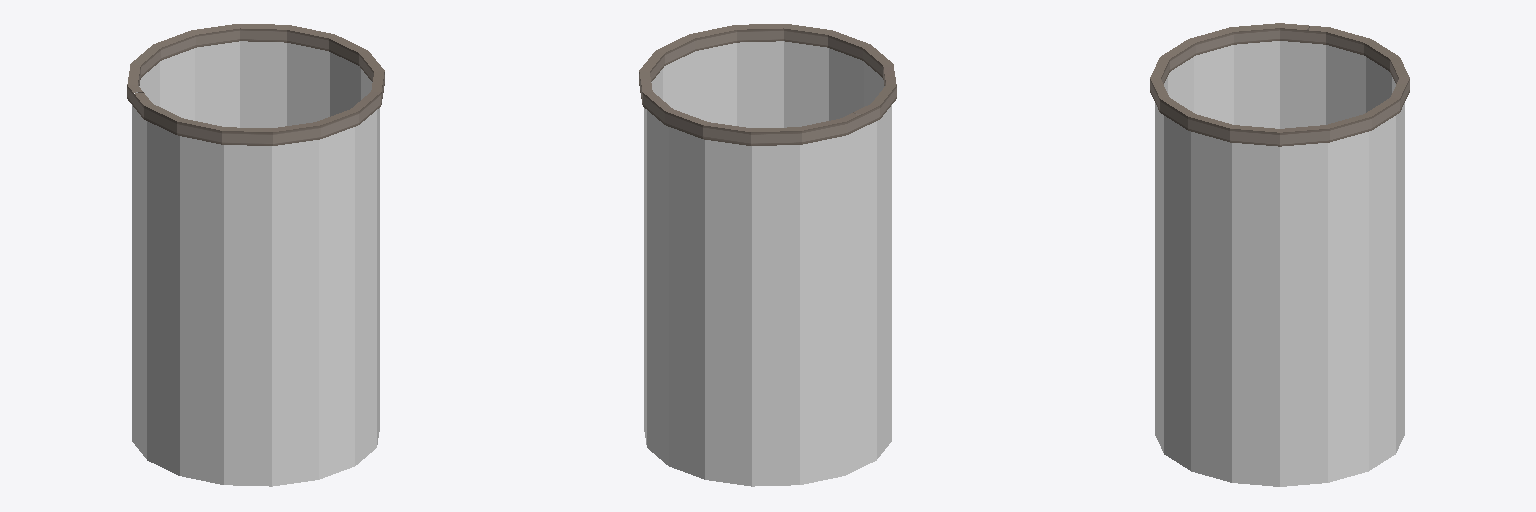
3 views of the same model, side by side, from view 1: azimuth 30°, elevation 25°; view 2: azimuth 150°, elevation 25°; view 3: azimuth 270°, elevation 25° (orthographic).
Visible parts, largest first — view 1: Cube.001; view 2: Cube.001; view 3: Cube.001.
Part boxes in pixels (bbox=[...]): Cube.001: bbox=[127, 24, 384, 486]; Cube.001: bbox=[639, 24, 896, 486]; Cube.001: bbox=[1150, 23, 1409, 486].
Bounding box in the file's own units: 1.86 × 2.81 × 1.86.
1 materials, 1 textured.